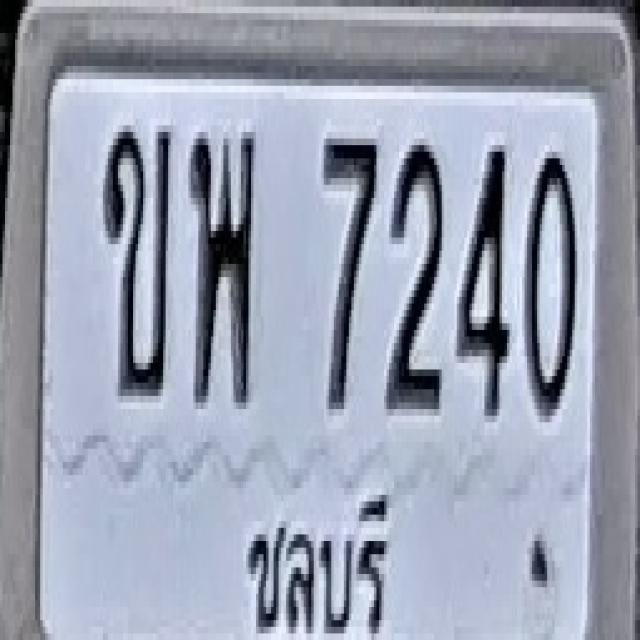-: (103, 125, 171, 396), (189, 125, 255, 402)
0: (523, 145, 576, 416)
2: (385, 139, 443, 409)
4: (456, 138, 508, 416)
7: (322, 132, 376, 409)
CBI: (223, 475, 409, 640)
